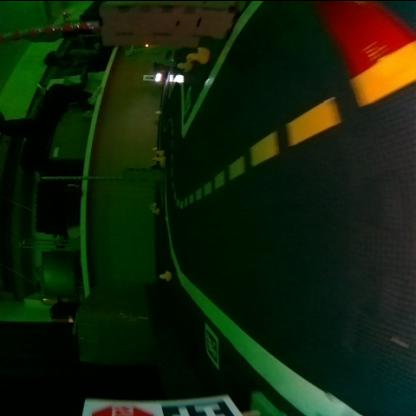Duckie: (186, 46, 210, 63), (176, 61, 190, 70), (158, 270, 170, 280), (155, 148, 162, 154), (158, 154, 163, 162), (152, 206, 158, 212)
QR code: (203, 332, 219, 366)
